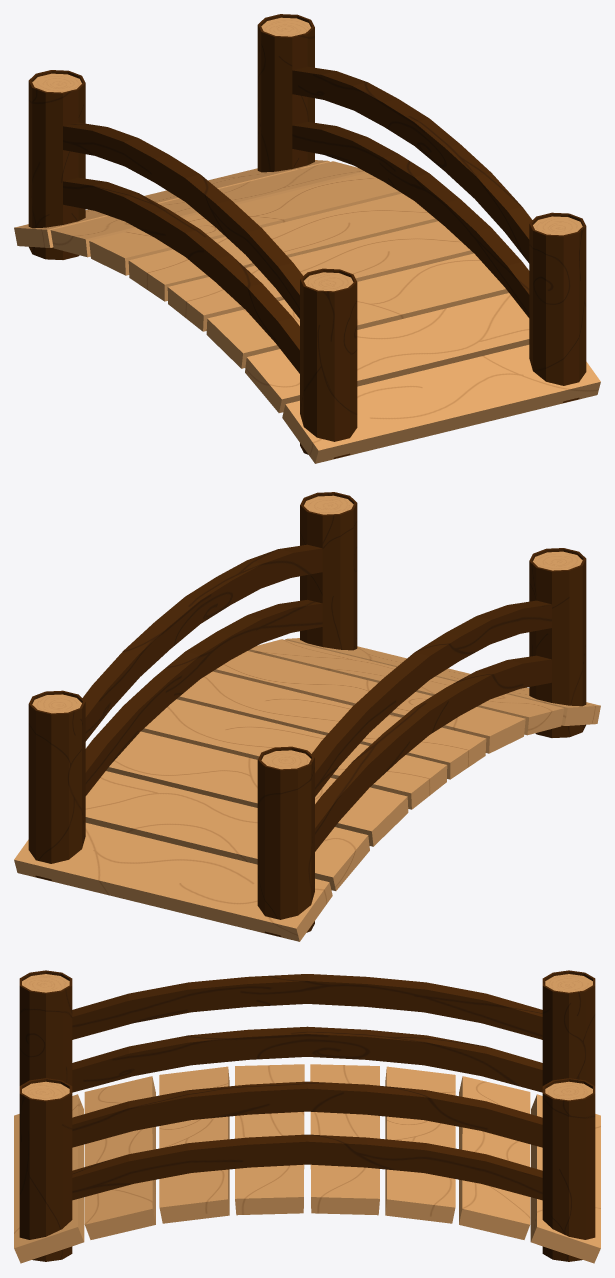
The model's file is bridge.fbx.
The picture shows the model from 3 angles, top to bottom: view 1: azimuth 30°, elevation 25°; view 2: azimuth 150°, elevation 25°; view 3: azimuth 270°, elevation 25°; orthographic projection. The views are drawn at different scales.
Visible parts, largest first — view 1: Cube; view 2: Cube; view 3: Cube.
Boxes of the visible parts, x1,y1,x2,y2 form: Cube: (14,14,600,463); Cube: (14,492,600,941); Cube: (14,970,600,1263).
Size of the model in its own units: 928 by 541 by 1734.
Materials: 1 (1 with a texture image).
